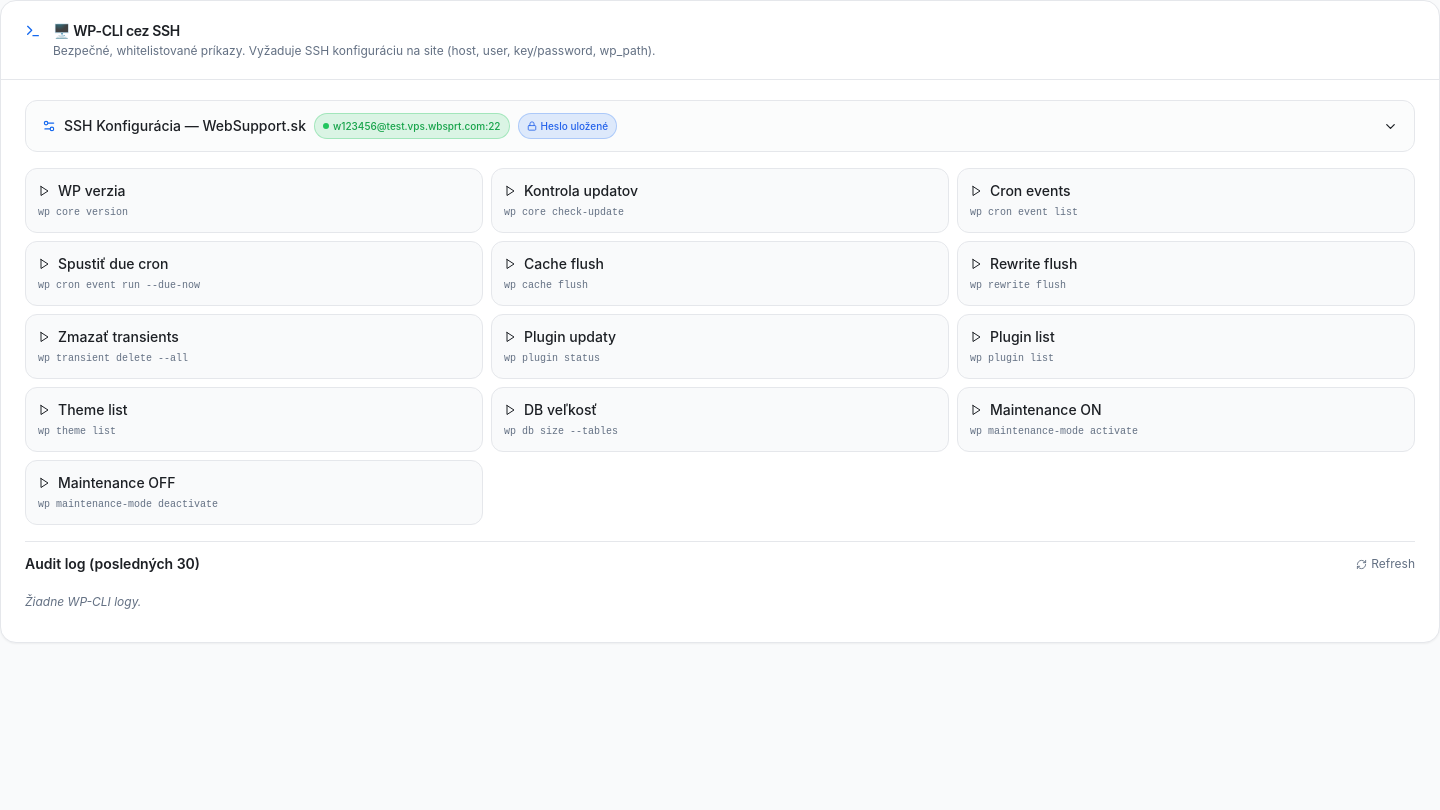
Scenario: WPCLIManager – destructive command confirm › dismisses confirm dialog on Zrušiť
Expected: the text "w123456@test.vps.wbsprt.com:22" is shown, [314,113,510,139]
Click the button "Cache flush wp cache flush" at [564, 264], box [491,241,949,306]
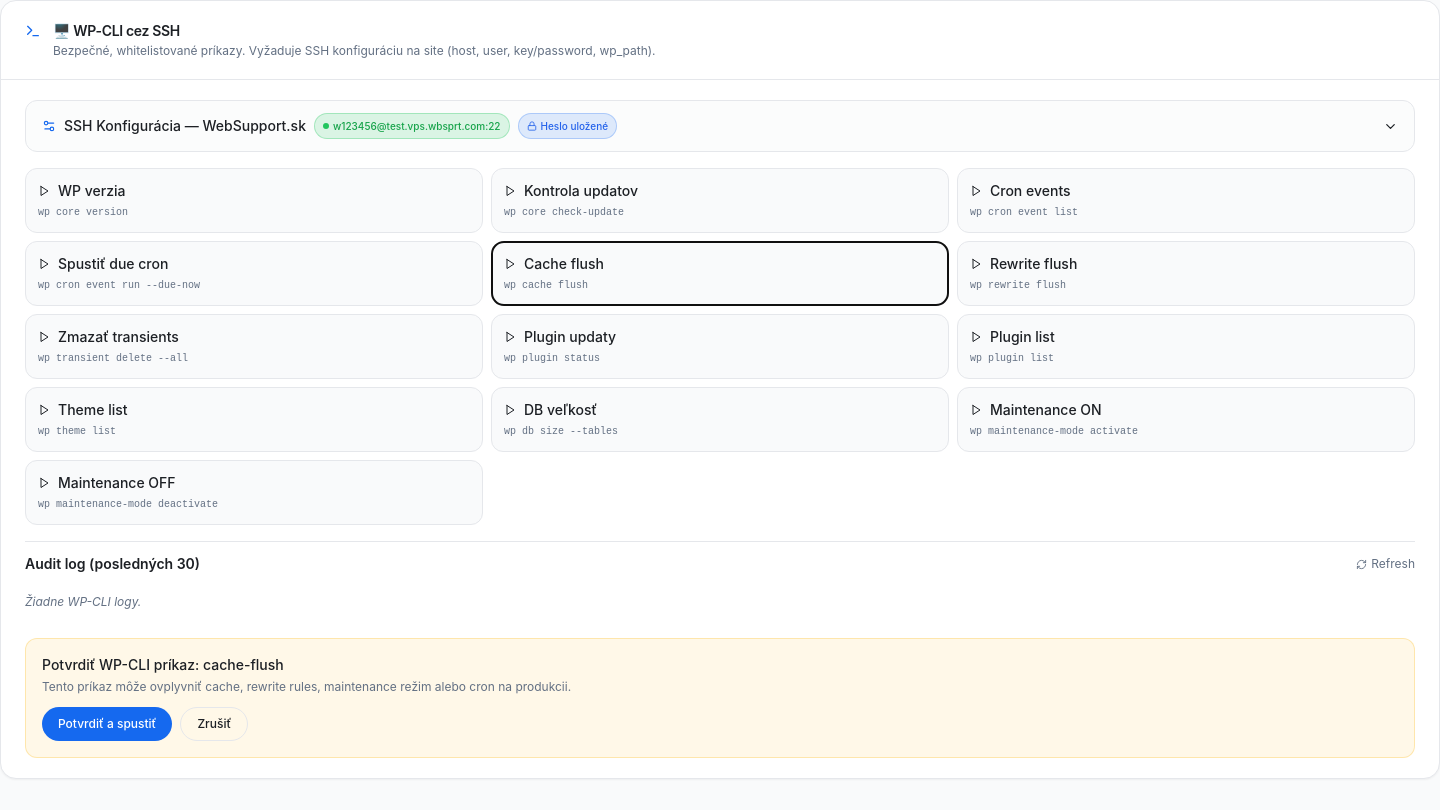
Click the button "Zrušiť" at [214, 724], box [180,707,248,741]
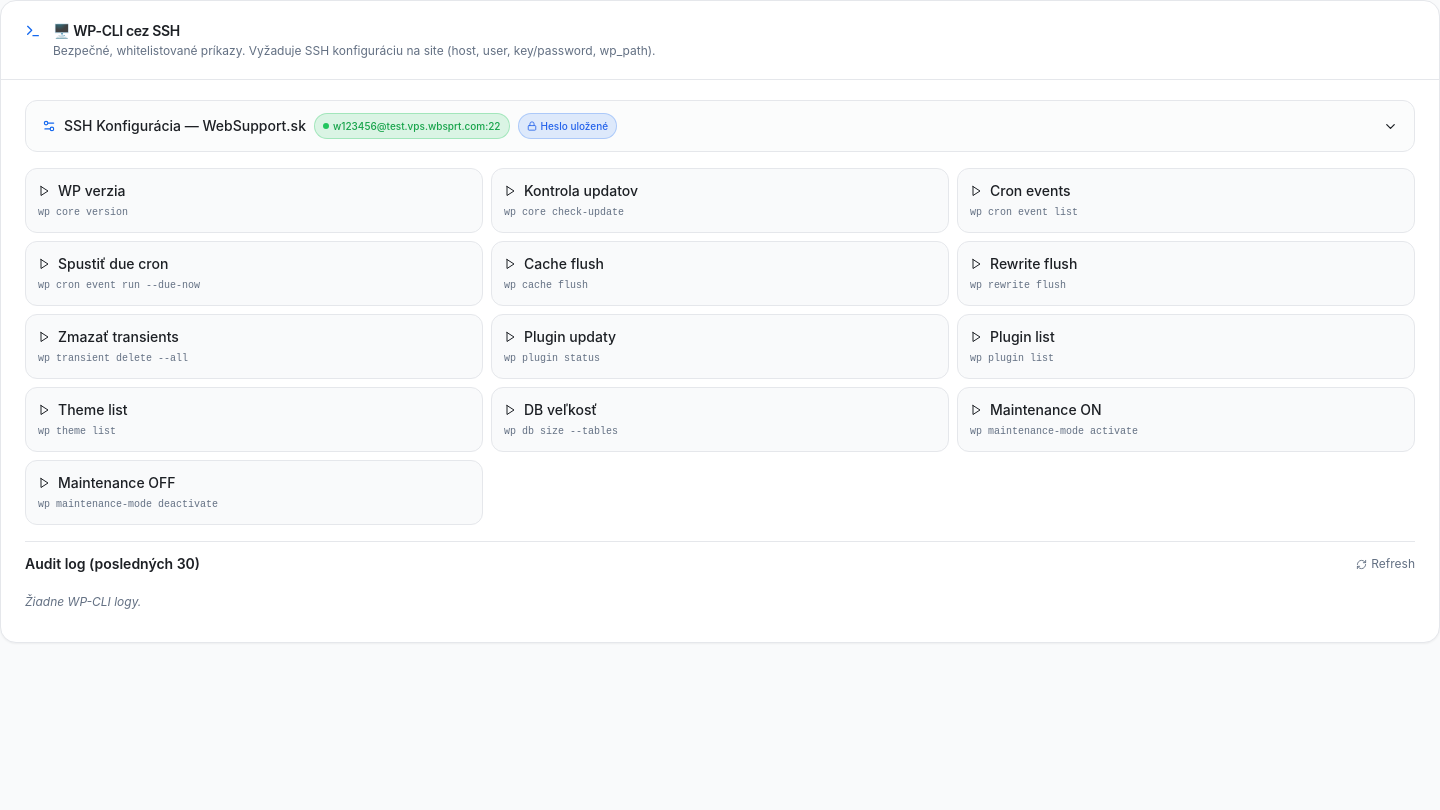
Expected: the text "Potvrdiť WP-CLI príkaz" is gone
